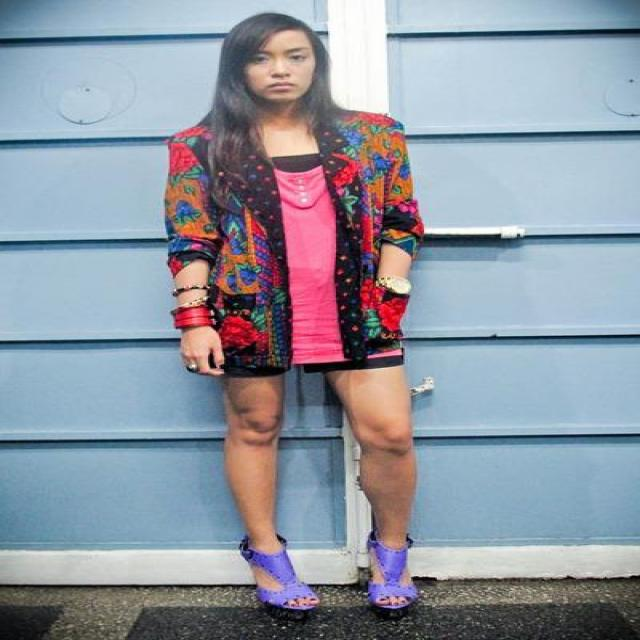jacket: (149, 110, 422, 376)
shirt: (250, 148, 350, 363)
shoe: (238, 533, 416, 608)
shorts: (303, 346, 362, 373)
